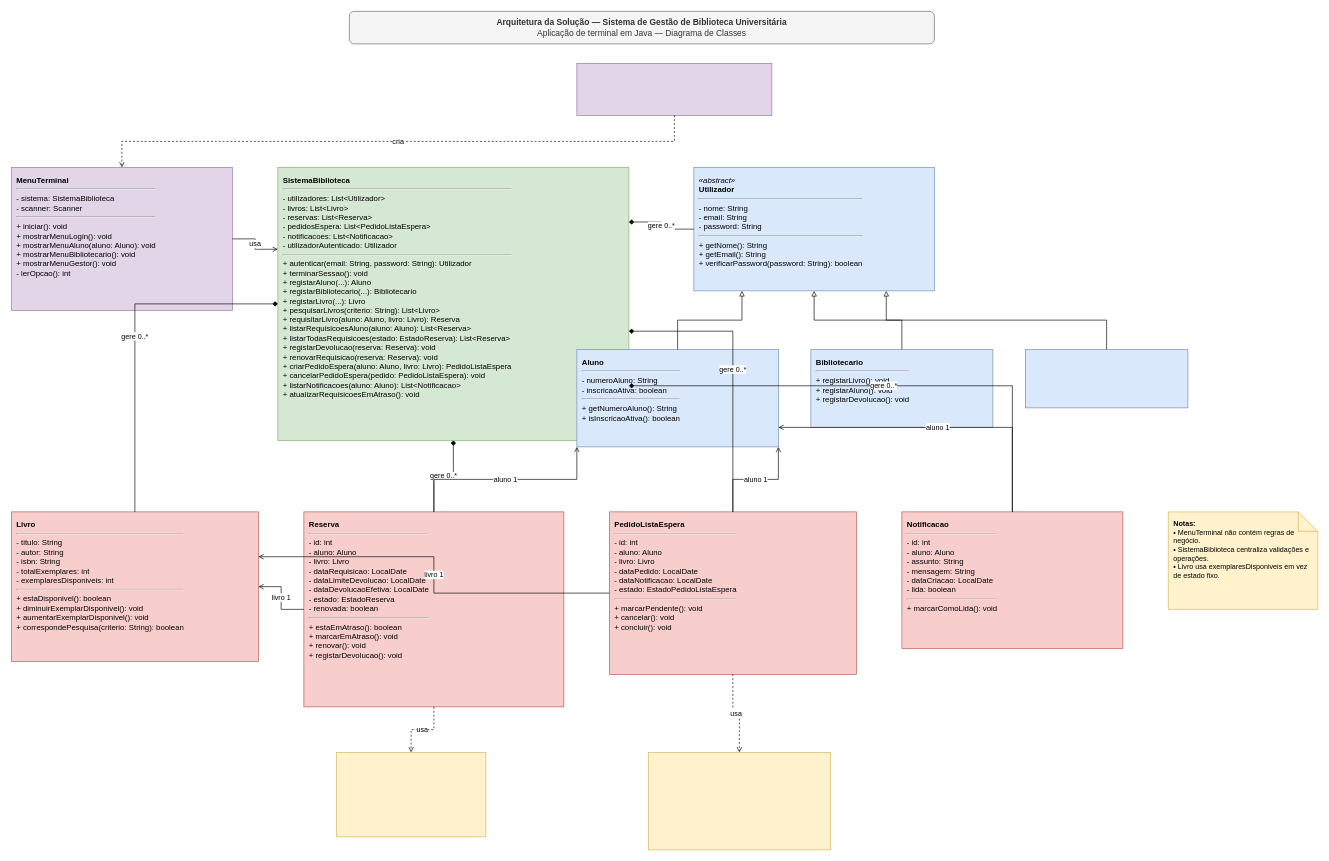
This 1329x861 diagram has some shape labels left out. The shapes that lost their labels are listed below. From the top down, each one's centre as x and y in pixels, then its label:
At (x=674, y=89): "Main + main(args: String[]): void".
At (x=1106, y=378): "Gestor + registarBibliotecario(): void".
At (x=411, y=794): "«enum» EstadoReserva ATIVA DEVOLVIDA EM_ATRASO".
At (x=739, y=801): "«enum» EstadoPedidoListaEspera ATIVO PENDENTE CANCELADO CONCLUIDO".
